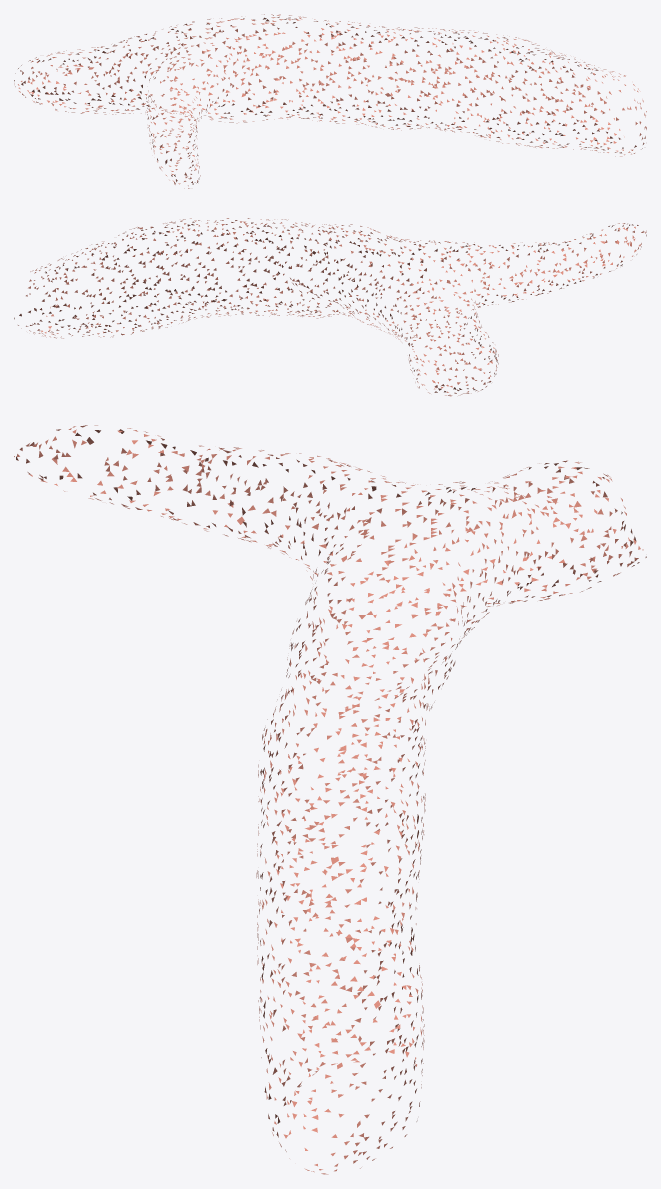
File: morph_002.glb
3 views of the same model, one above another, from view 1: azimuth 30°, elevation 25°; view 2: azimuth 150°, elevation 25°; view 3: azimuth 270°, elevation 25° (orthographic). The views are drawn at different scales.
Size of the model in its own units: 112 by 39.7 by 66.39.
